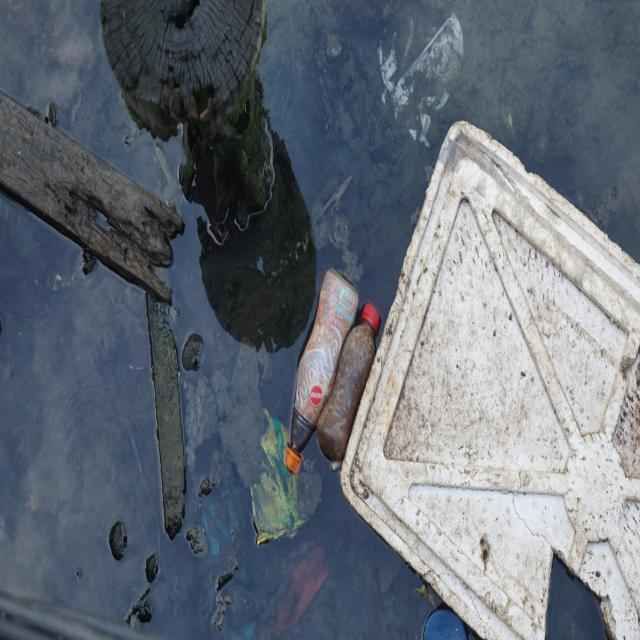Botol Plastik: (285, 268, 359, 475), (317, 298, 383, 464)
Bungkus Makanan: (253, 409, 305, 548)
